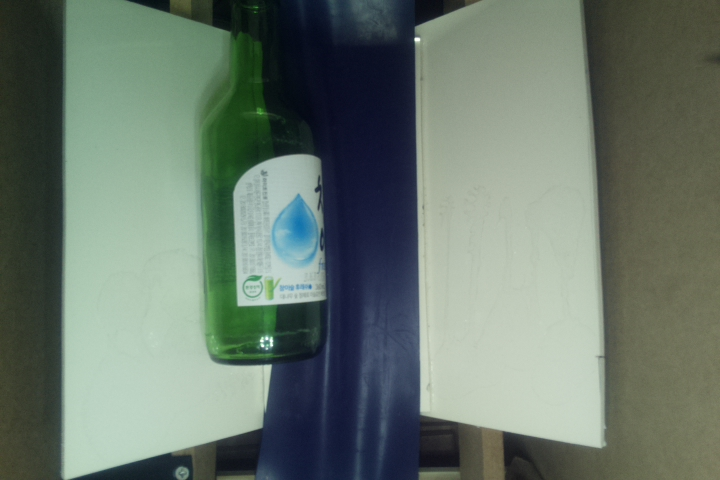soju: (198, 1, 332, 367)
